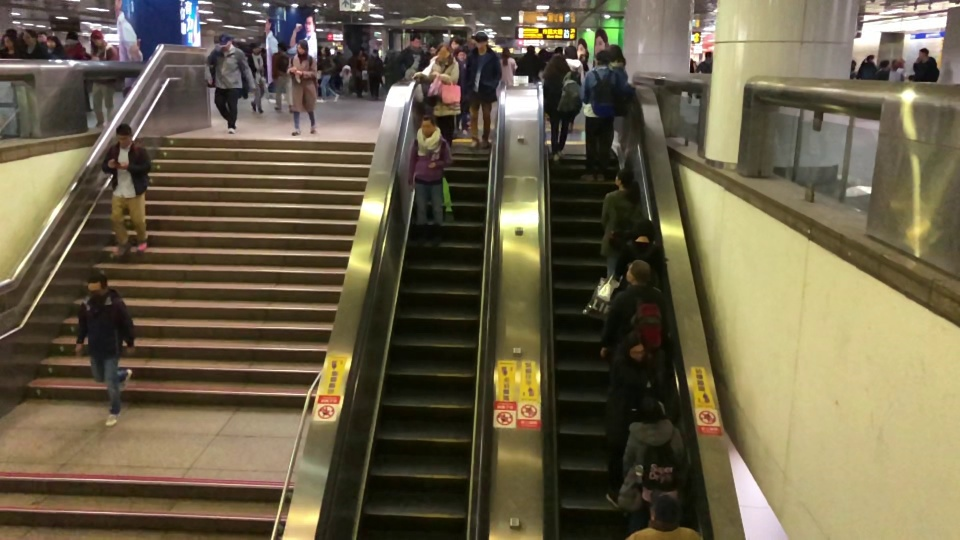person_head: (647, 494, 681, 521), (86, 271, 110, 299), (624, 331, 647, 359), (625, 259, 651, 283), (632, 217, 656, 241), (638, 396, 662, 420), (115, 123, 133, 147), (613, 167, 634, 187), (420, 114, 436, 136), (609, 44, 624, 61), (436, 42, 451, 58), (594, 50, 609, 65), (474, 31, 488, 47), (22, 29, 36, 44), (218, 36, 232, 51), (90, 30, 103, 45), (564, 45, 577, 58), (296, 39, 308, 53), (3, 34, 15, 47), (409, 33, 421, 46), (551, 53, 563, 66), (64, 31, 78, 41), (46, 36, 57, 47), (277, 41, 288, 52), (36, 31, 46, 43), (917, 48, 929, 58), (450, 36, 459, 48), (456, 49, 466, 59), (526, 44, 536, 54), (502, 47, 511, 58), (251, 44, 261, 53), (894, 58, 905, 66), (321, 47, 330, 56), (880, 59, 890, 67), (705, 50, 712, 59), (865, 54, 874, 61), (851, 59, 856, 70)
person_vbox: (74, 271, 136, 429), (618, 396, 686, 515), (605, 331, 647, 512), (598, 259, 669, 364), (101, 123, 151, 258), (580, 50, 627, 182), (408, 113, 453, 245), (204, 36, 255, 135), (600, 167, 645, 276), (415, 42, 461, 148), (543, 53, 582, 163), (466, 31, 501, 152), (625, 494, 702, 540), (286, 39, 320, 138), (89, 30, 119, 130), (614, 217, 656, 286), (63, 30, 92, 113), (271, 41, 294, 113), (394, 33, 426, 79), (247, 44, 267, 113), (317, 47, 339, 104), (908, 48, 940, 82), (20, 29, 46, 59), (564, 44, 584, 83), (499, 46, 517, 86), (518, 44, 536, 80), (857, 55, 876, 80), (45, 36, 62, 59), (695, 50, 712, 73), (889, 58, 905, 81), (2, 33, 15, 58), (875, 59, 890, 80), (849, 59, 856, 80)
